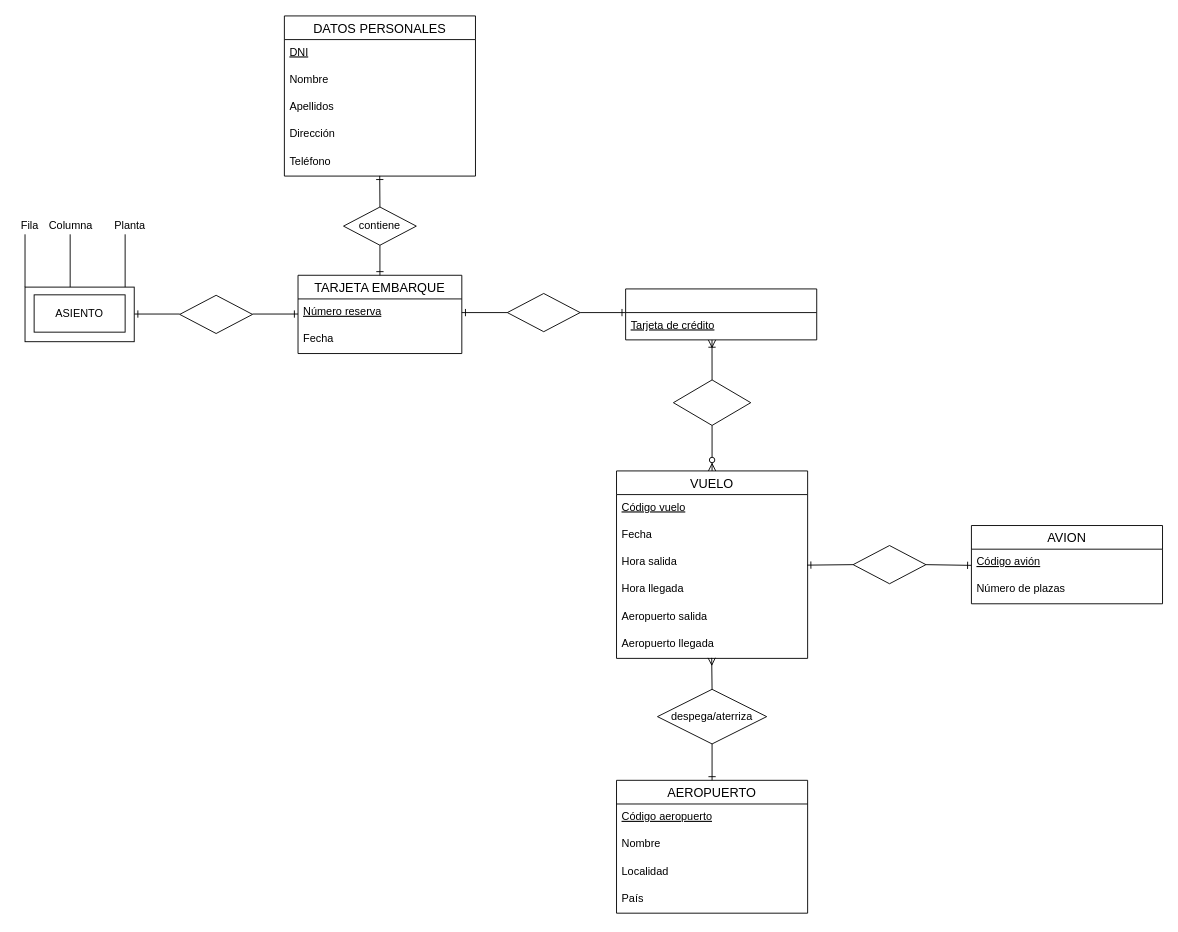
This 1178x932 diagram has some shape labels left out. Here are the shapes that lost their labels. From the top down, the box of each, then its label:
(179, 294, 253, 334): asignar
(506, 293, 580, 332): obtener
(625, 288, 817, 340): CLIENTE
(672, 379, 751, 425): Reserva
(852, 545, 926, 584): realiza
